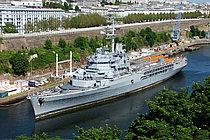MIL_Ship: (28, 27, 185, 117)
